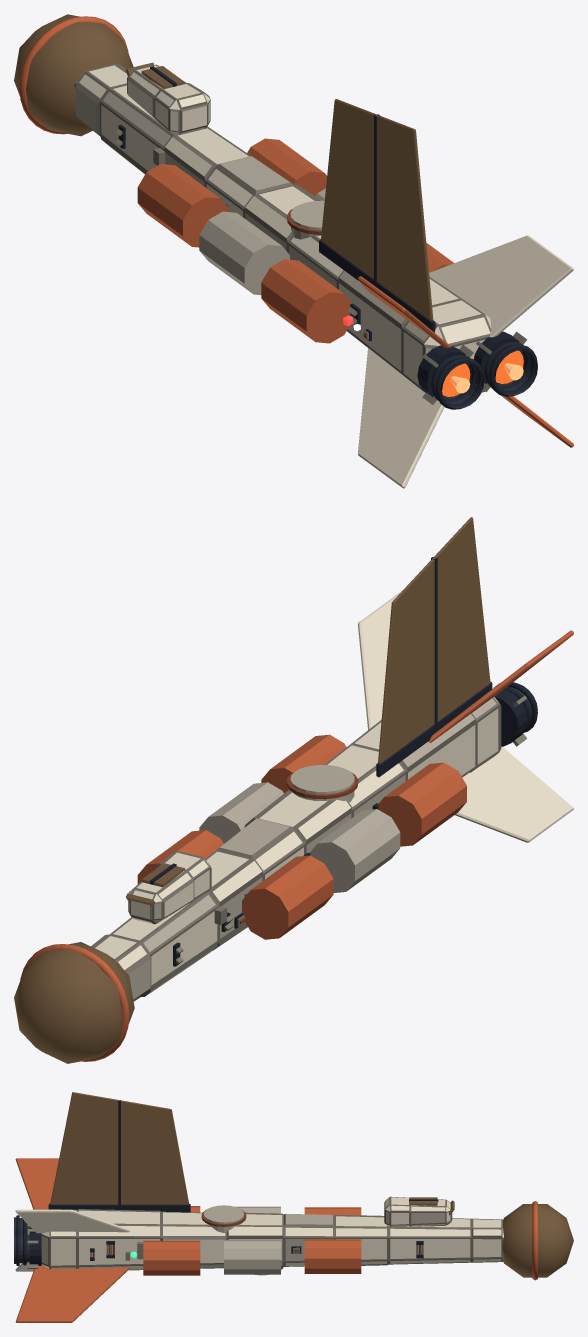
File: wayfarer.glb
3 views of the same model, one above another, from view 1: azimuth 30°, elevation 25°; view 2: azimuth 150°, elevation 25°; view 3: azimuth 270°, elevation 25° (orthographic). The views are drawn at different scales.
Visible parts, largest first — view 1: wayfarer_mesh; view 2: wayfarer_mesh; view 3: wayfarer_mesh.
Part boxes in pixels (x1=…): wayfarer_mesh: x1=14, y1=14, x2=573, y2=488; wayfarer_mesh: x1=14, y1=517, x2=573, y2=1063; wayfarer_mesh: x1=14, y1=1092, x2=573, y2=1322.
Bounding box in the file's own units: 3.15 × 5.48 × 14.17.
